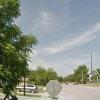Tree: (3, 0, 34, 93)
